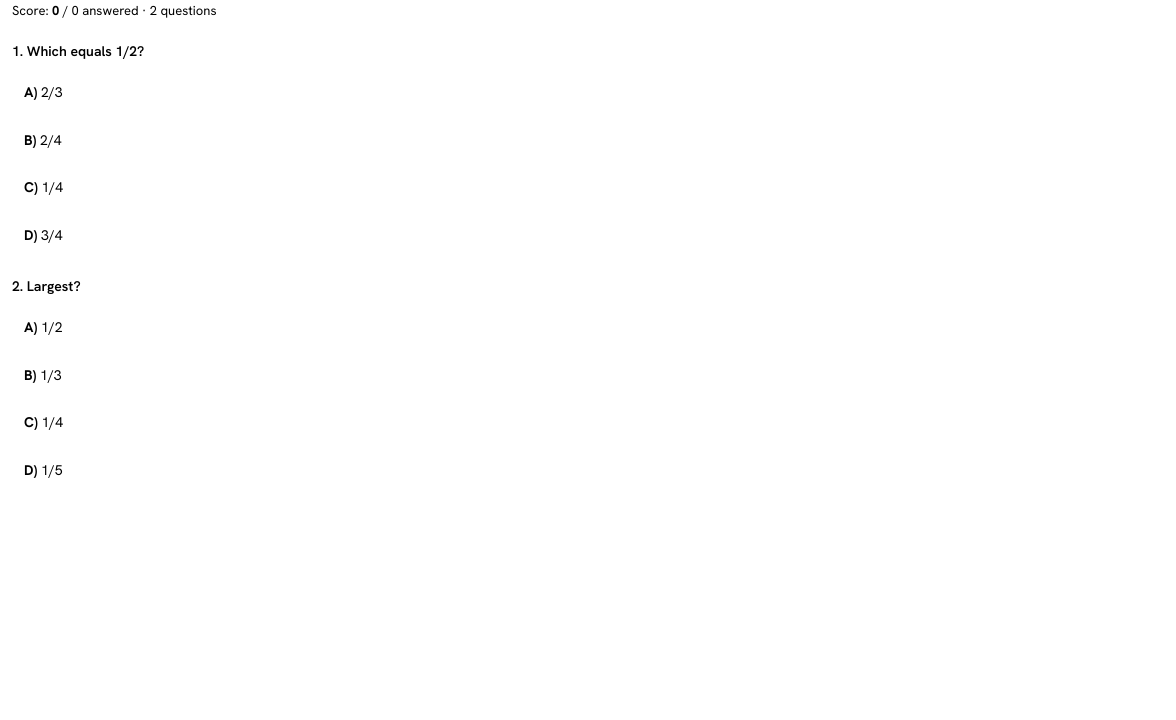
Test case: Quiz — scoring › scores answers, explains in words, locks each question, and totals at the end
The width and height of the screenshot is (1176, 720).
Expected: the text "2/4 simplifies." is not shown
Click the button "B) 2/4" at x=28, y=140, box [12,120,1164,162]
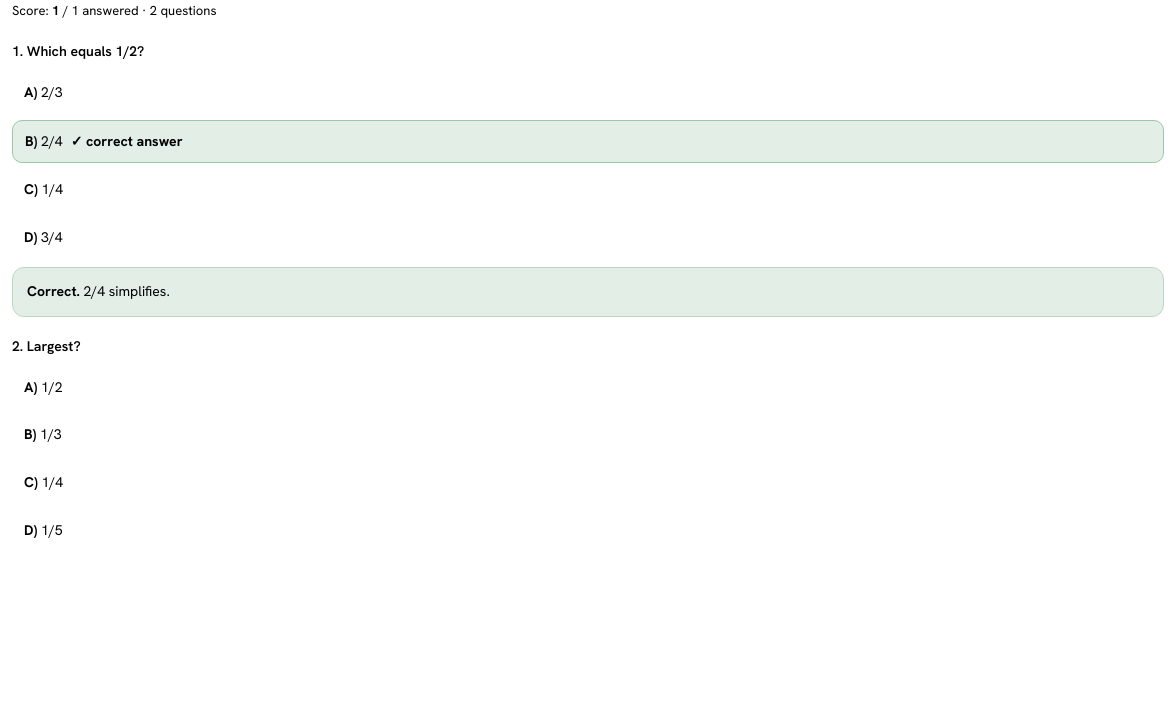
Expected: the button "A) 2/3" is disabled, [12,72,1164,114]
Result: the text "Correct." is shown at [27,282,80,300]
Result: the text "2/4 simplifies." is shown at [84,282,170,300]
Click the button "B) 1/3" at x=28, y=434, box [12,414,1164,456]
(page scrolled)
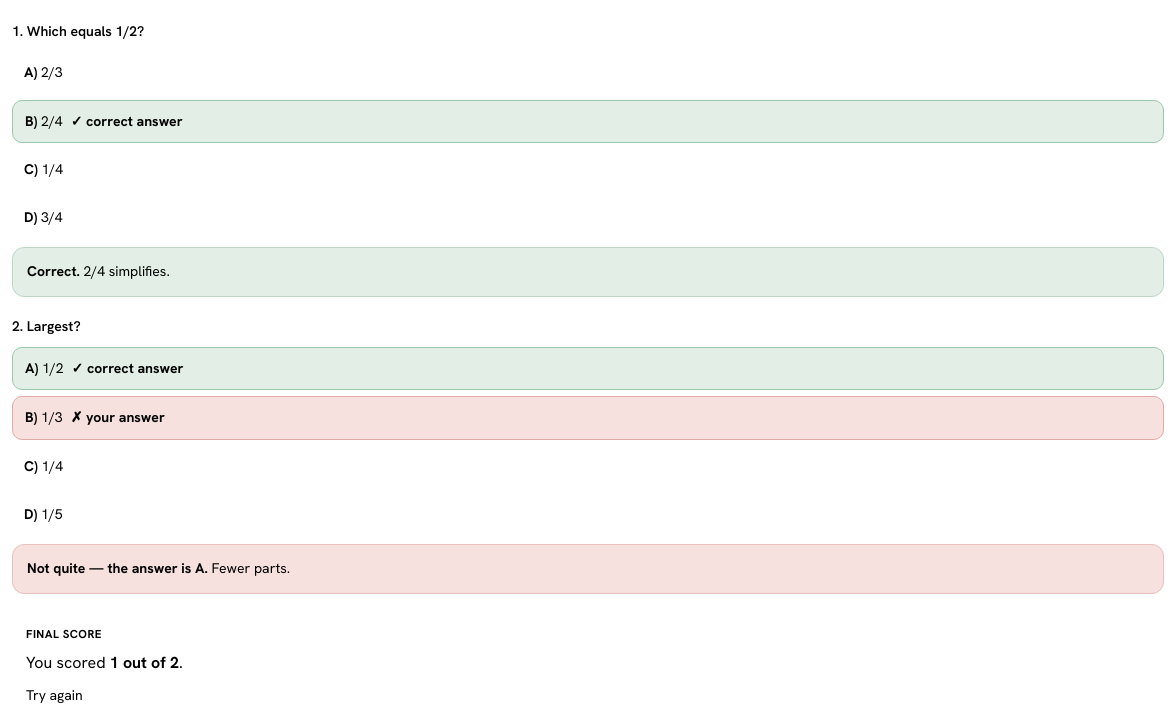
Result: the text "Not quite — the answer is A." is shown at [27,559,208,577]
Result: the text "You scored 1 out of 2." is shown at [26,652,183,673]
Click the button "Try again" at x=54, y=696, box [26,684,83,708]
(page scrolled)
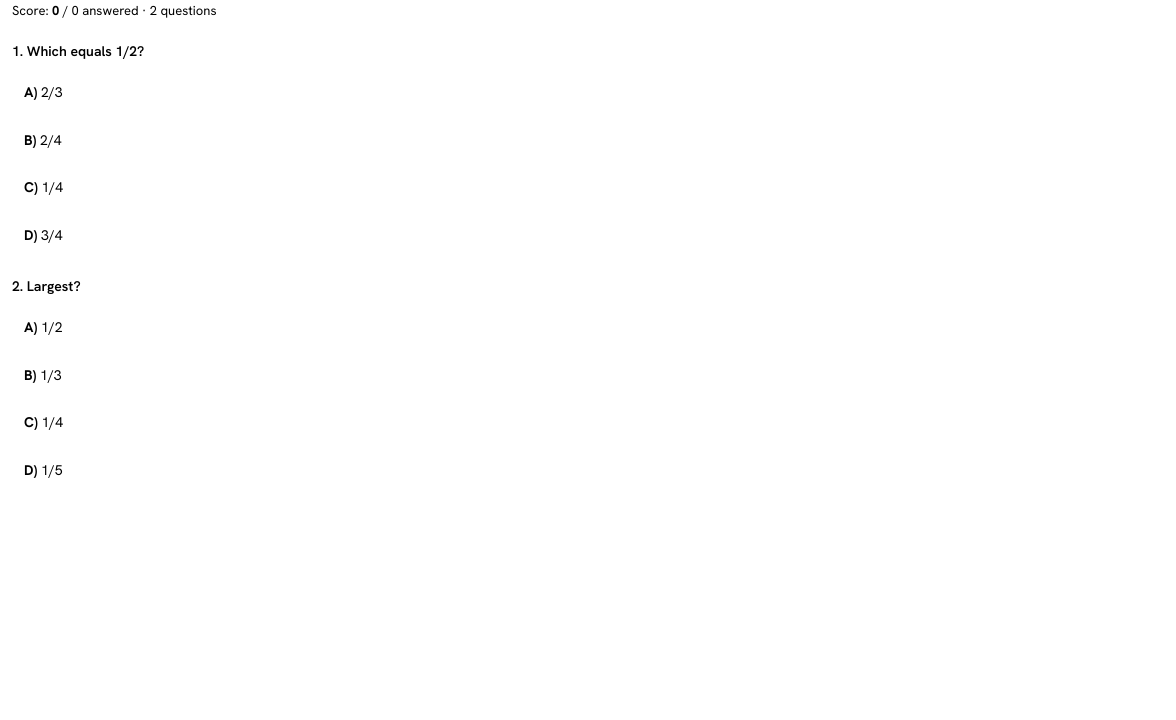
Result: the text "You scored" is gone
Result: the button "A) 2/3" is enabled at [12,72,1164,114]
